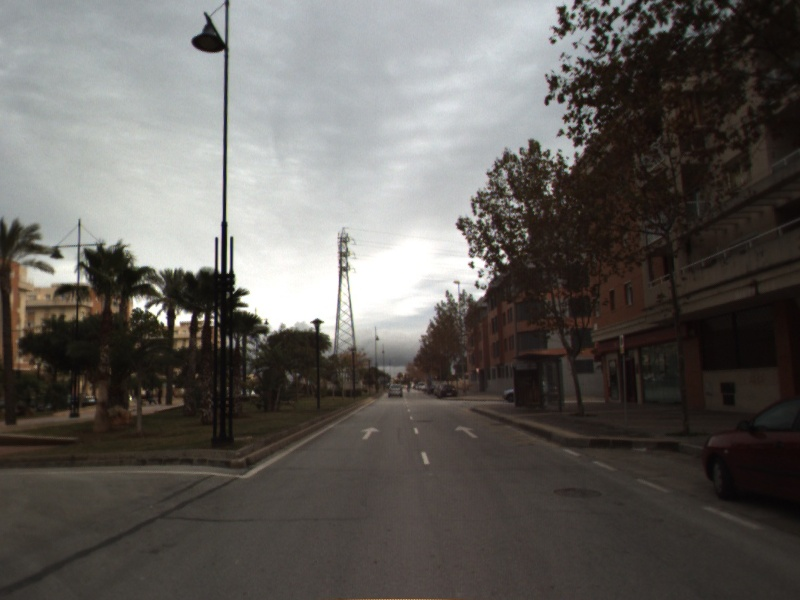STRAIGHT: (453, 423, 480, 440), (359, 425, 382, 441)
